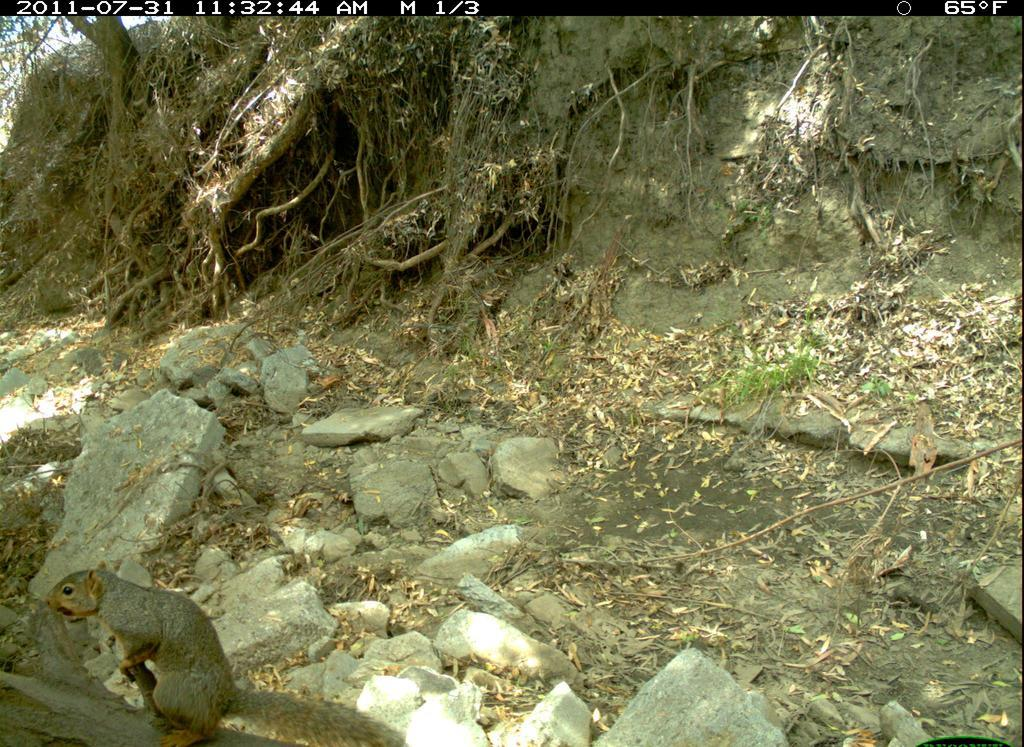squirrel: (38, 555, 420, 744)
